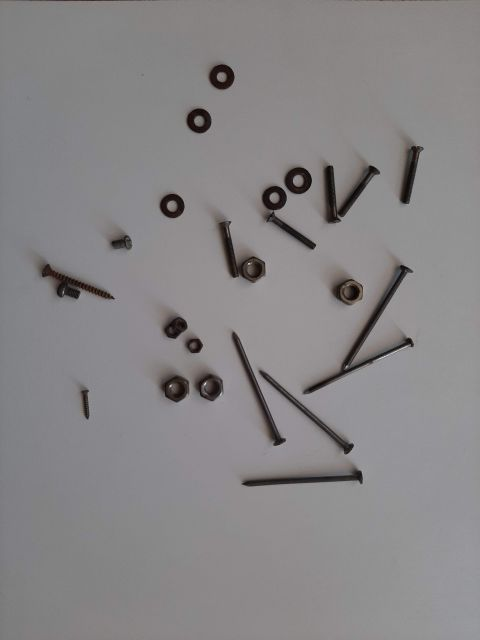gwozdz: (205, 305, 295, 445), (325, 245, 415, 385), (295, 325, 415, 415), (245, 355, 355, 445), (235, 445, 365, 505)
nakretka: (135, 355, 205, 415), (305, 265, 365, 305), (185, 355, 215, 415)
podkladka: (185, 35, 245, 95), (275, 135, 325, 205), (135, 175, 185, 235), (155, 95, 215, 135), (245, 175, 295, 215)
sruba: (385, 125, 445, 215), (325, 135, 385, 215), (245, 205, 325, 265), (205, 215, 245, 295), (305, 155, 335, 235), (95, 215, 135, 265)
